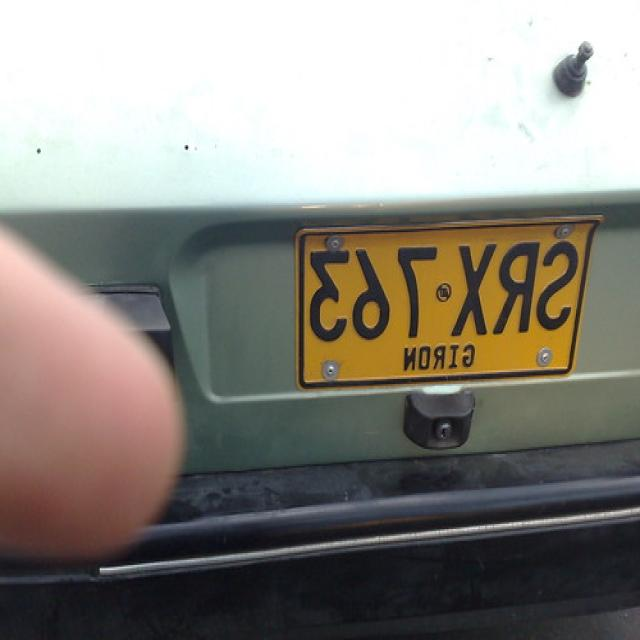placas: (301, 232, 585, 346)
